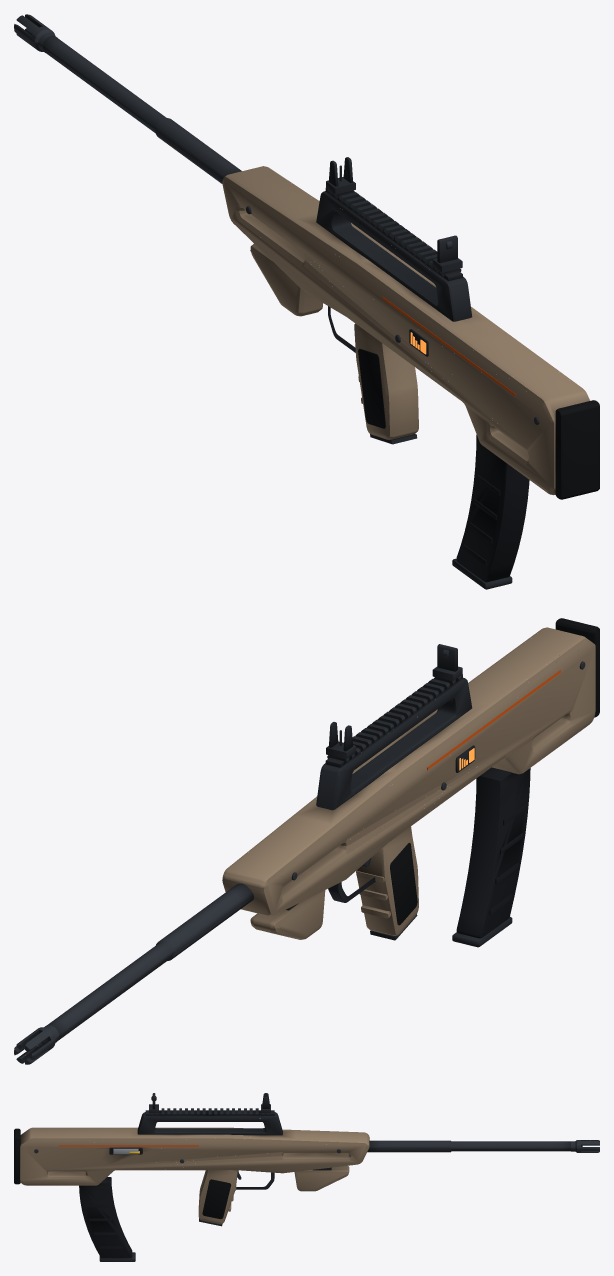
Rendered from qbz-95.glb.
3 renders of one model, top to bottom at view 1: azimuth 30°, elevation 25°; view 2: azimuth 150°, elevation 25°; view 3: azimuth 270°, elevation 25°, orthographic. The views are drawn at different scales.
Parts seen in each view (by area): view 1: body_furn, body_frame2, mag_polymer, body_steel, body_rubber; view 2: body_furn, body_frame2, mag_polymer, body_steel, body_rubber; view 3: body_furn, body_frame2, body_steel, mag_polymer, body_rubber, body_accent.
Part boxes in pixels (x1,y1,x2,y2): body_furn: (222, 166, 590, 495); body_frame2: (316, 157, 472, 444); mag_polymer: (456, 434, 529, 582); body_steel: (14, 14, 539, 424); body_rubber: (358, 348, 599, 499); body_furn: (222, 627, 595, 939); body_frame2: (286, 644, 475, 940); mag_polymer: (456, 767, 530, 938); body_steel: (14, 649, 585, 1064); body_rubber: (390, 618, 599, 925); body_furn: (20, 1127, 369, 1224); body_frame2: (109, 1093, 331, 1226); body_steel: (34, 1096, 599, 1179); mag_polymer: (79, 1177, 132, 1258); body_rubber: (14, 1128, 231, 1218); body_accent: (58, 1145, 198, 1146).
Size of the model in its own units: 0.0555 by 0.3223 by 1.05.
